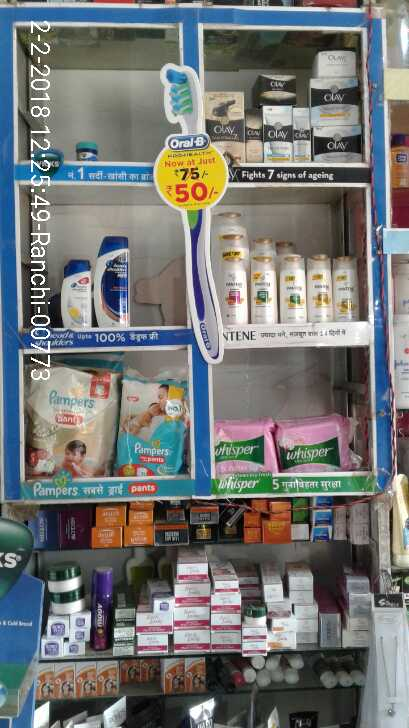vicks: (69, 139, 106, 164)
